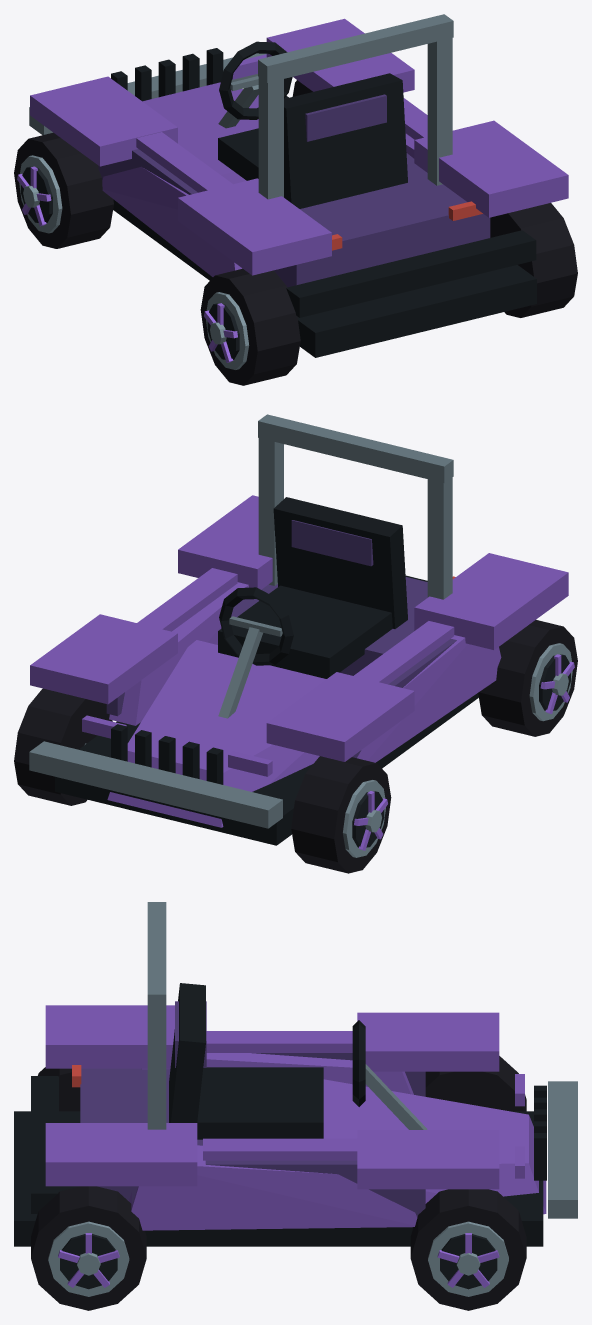
The model's file is kart.glb.
3 renders of one model, top to bottom at view 1: azimuth 30°, elevation 25°; view 2: azimuth 150°, elevation 25°; view 3: azimuth 270°, elevation 25°, orthographic.
Parts seen in each view (by area): view 1: chassis, wheel-rear-left, wheel-front-left, wheel-rear-right; view 2: chassis, wheel-front-left, wheel-rear-left, wheel-front-right; view 3: chassis, wheel-front-right, wheel-rear-right, wheel-front-left, wheel-rear-left.
Boxes of the visible parts, x1=… form: chassis: x1=29, y1=14, x2=568, y2=357; wheel-rear-left: x1=200, y1=268, x2=300, y2=385; wheel-front-left: x1=14, y1=132, x2=113, y2=248; wheel-rear-right: x1=490, y1=203, x2=577, y2=317; chassis: x1=29, y1=414, x2=568, y2=845; wheel-front-left: x1=291, y1=756, x2=391, y2=873; wheel-rear-left: x1=478, y1=620, x2=577, y2=736; wheel-front-right: x1=14, y1=688, x2=112, y2=805; chassis: x1=14, y1=902, x2=577, y2=1246; wheel-front-right: x1=410, y1=1189, x2=526, y2=1310; wheel-rear-right: x1=31, y1=1186, x2=146, y2=1310; wheel-front-left: x1=425, y1=1056, x2=526, y2=1111; wheel-rear-left: x1=38, y1=1067, x2=80, y2=1111.
Size of the model in its own units: 2.18 by 1.67 by 3.01.
